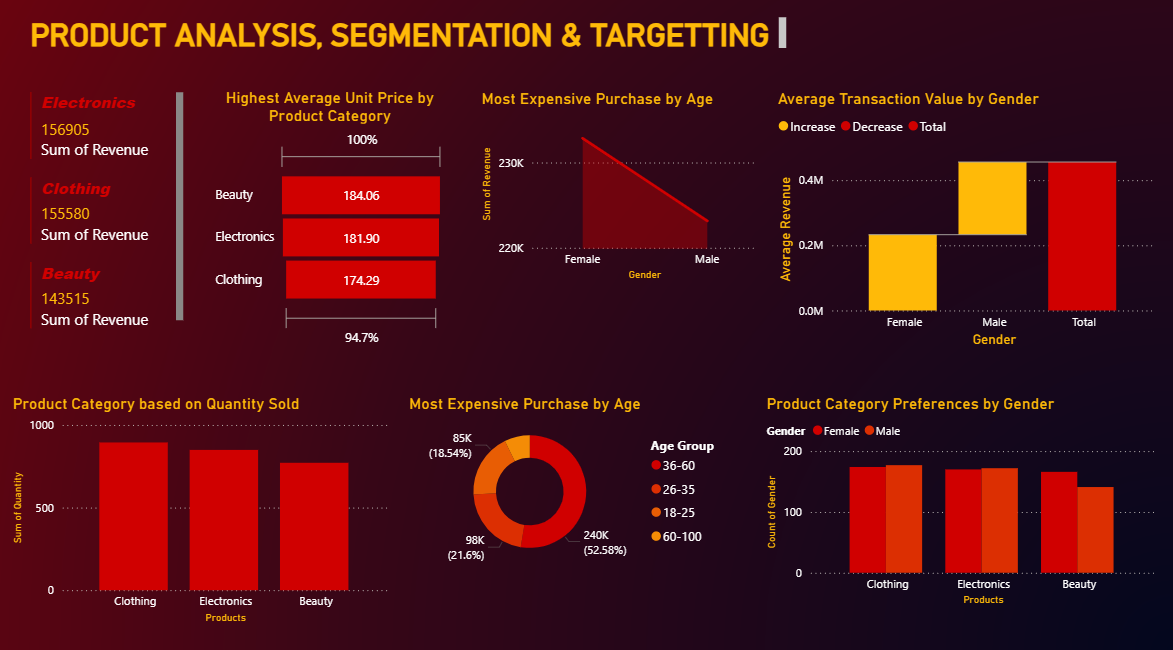

The dashboard page shown, as its layout file describes it:
{"tool":"powerbi","page":{"name":"Page 3","canvas":[1280,720],"ordinal":2},"visuals":[{"type":"textbox","box":[41.3,25.3,816,45.3],"z":1000},{"type":"funnel","title":" Highest Average Unit Price by Product Category","fields":{"Category":["retail_sales_dataset.Products"],"Y":["Avg(retail_sales_dataset.Price per Unit)"]},"box":[238.7,105.3,254.7,281.3],"z":2000},{"type":"multiRowCard","fields":{"Values":["Sum(retail_sales_dataset.Revenue)","retail_sales_dataset.Products"]},"box":[41.3,105.3,173.3,268],"z":3000},{"type":"lineStackedColumnComboChart","title":"Product Category based on Quantity Sold","fields":{"Y":["Sum(retail_sales_dataset.Quantity)"],"Category":["retail_sales_dataset.Products"]},"box":[22.7,432,410.7,249.3],"z":4000},{"type":"donutChart","title":"Most Expensive Purchase by Age ","fields":{"Y":["Sum(retail_sales_dataset.Revenue)"],"Category":["retail_sales_dataset.Age Group"]},"box":[445.3,432,354.7,189.3],"z":5000},{"type":"stackedAreaChart","title":"Most Expensive Purchase by Age ","fields":{"Category":["retail_sales_dataset.Gender"],"Y":["Sum(retail_sales_dataset.Revenue)"]},"box":[522.7,106.7,304,209.3],"z":6000},{"type":"lineClusteredColumnComboChart","title":"Product Category Preferences by Gender","fields":{"Category":["retail_sales_dataset.Products"],"Series":["retail_sales_dataset.Gender"],"Y":["CountNonNull(retail_sales_dataset.Gender)"]},"box":[826.7,432,425.3,230.7],"z":7000},{"type":"waterfallChart","title":"Average Transaction Value by Gender","fields":{"Category":["retail_sales_dataset.Gender"],"Y":["retail_sales_dataset.Total Revenue average per Gender 3"]},"box":[838.7,106.7,413.3,280],"z":8000}]}

Visuals, with their boxes in screenshot pixels (x1, y1, x2, y2), scaled from the page's 1280x720 canvas onto the 1173x650 screenshot:
textbox: box(38, 23, 786, 64)
" Highest Average Unit Price by Product Category" funnel: box(219, 95, 452, 349)
multiRowCard - Sum(retail_sales_dataset.Revenue) x retail_sales_dataset.Products: box(38, 95, 197, 337)
"Product Category based on Quantity Sold" lineStackedColumnComboChart: box(21, 390, 397, 615)
"Most Expensive Purchase by Age " donutChart: box(408, 390, 733, 561)
"Most Expensive Purchase by Age " stackedAreaChart: box(479, 96, 758, 285)
"Product Category Preferences by Gender" lineClusteredColumnComboChart: box(758, 390, 1147, 598)
"Average Transaction Value by Gender" waterfallChart: box(769, 96, 1147, 349)
